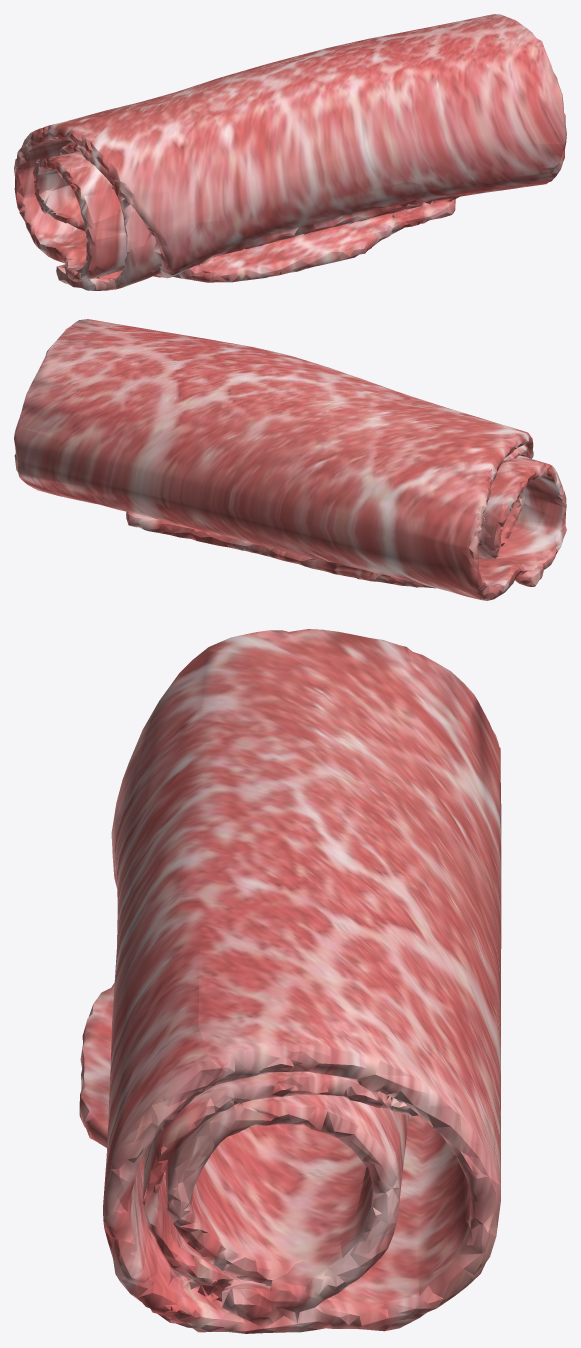
The model's file is Roll.fbx.
The picture shows the model from 3 angles, top to bottom: view 1: azimuth 30°, elevation 25°; view 2: azimuth 150°, elevation 25°; view 3: azimuth 270°, elevation 25°; orthographic projection. The views are drawn at different scales.
Parts seen in each view (by area): view 1: Mesh1.0; view 2: Mesh1.0; view 3: Mesh1.0.
Part boxes in pixels (<box>): Mesh1.0: <box>14,14,566,290</box>; Mesh1.0: <box>14,319,566,600</box>; Mesh1.0: <box>79,629,501,1333</box>.
Bounding box in the file's own units: 189 × 60.28 × 73.71.
